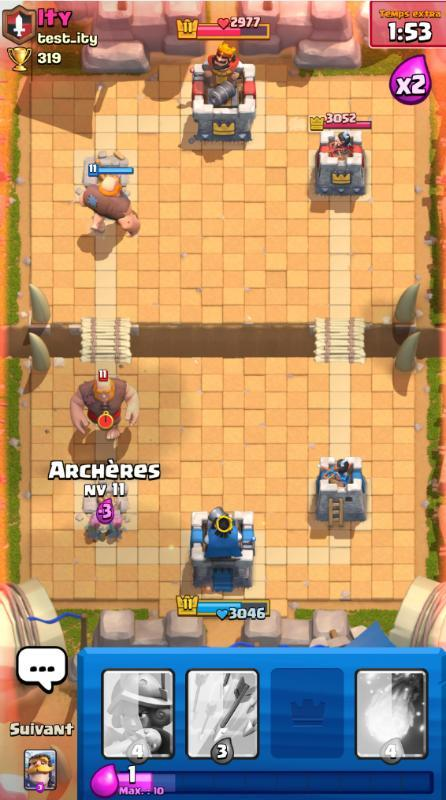archere: (83, 514, 105, 543), (105, 513, 128, 539)
geant: (70, 369, 140, 440), (79, 163, 141, 237)
